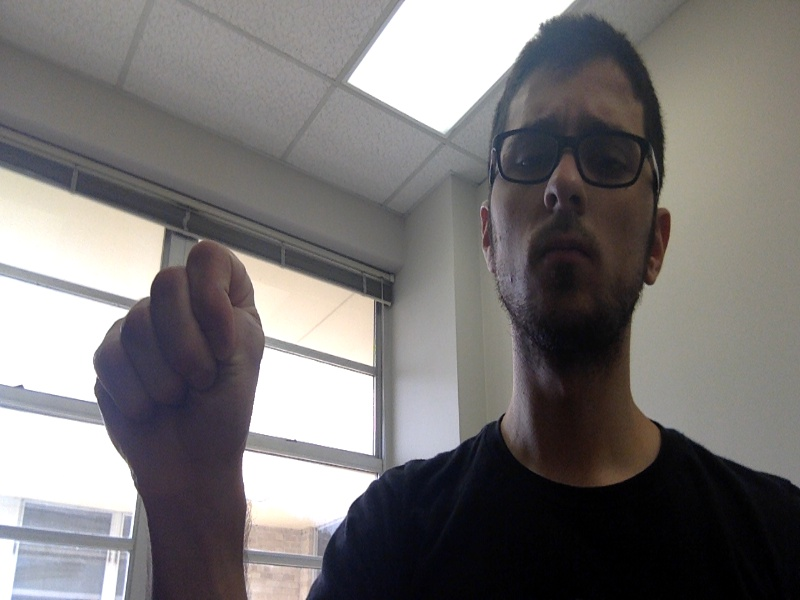0-hand: (95, 240, 266, 481)
